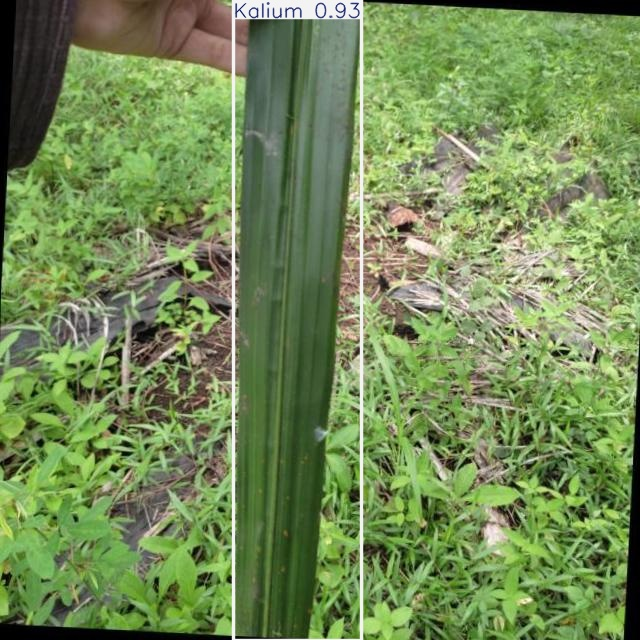Kalium: (234, 0, 362, 640)
